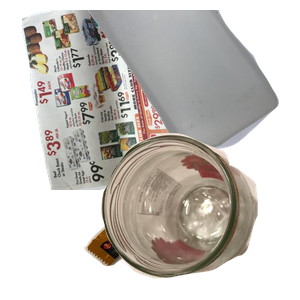glass: (98, 131, 300, 300)
paper: (19, 10, 223, 190)
plastic: (84, 10, 300, 157)
trash: (82, 151, 260, 300)
